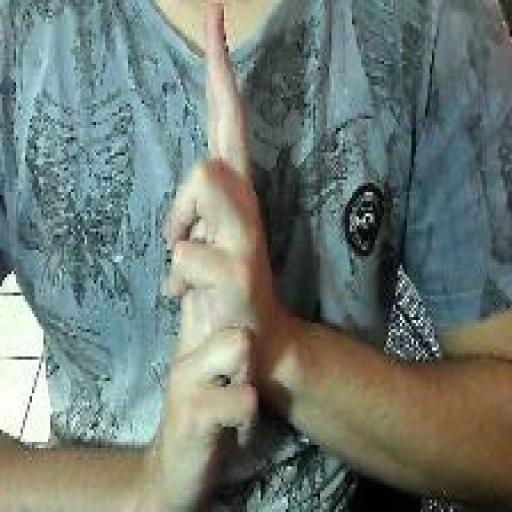Hitsuji -ram-: (159, 2, 268, 508)
